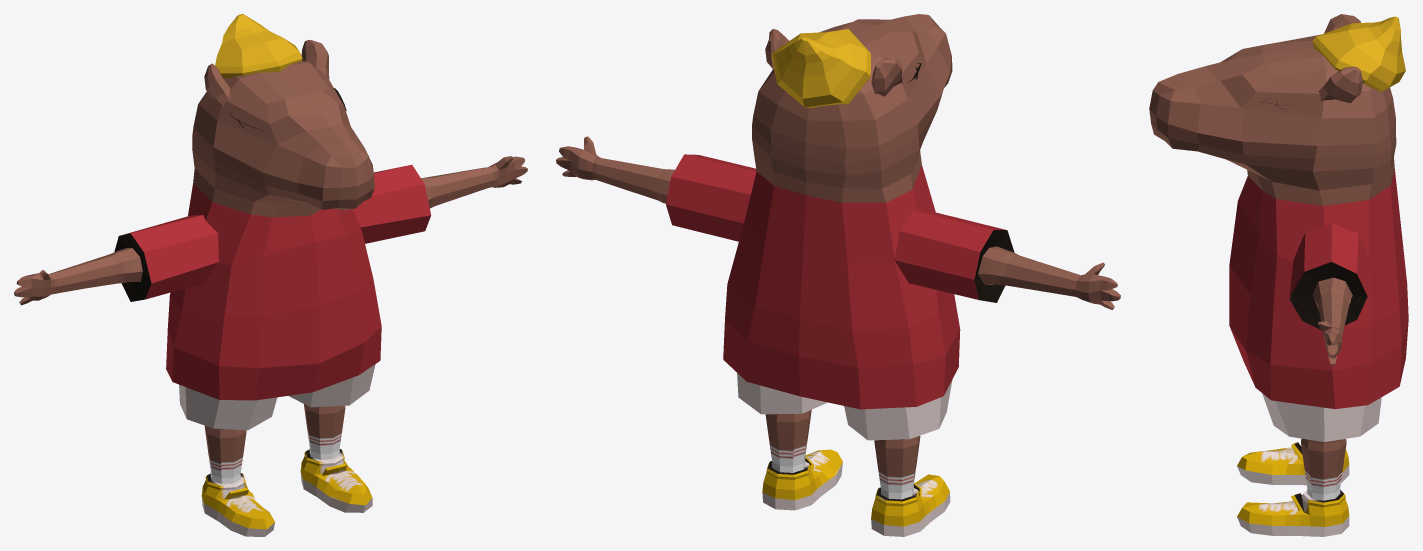
The model's file is capybara.fbx.
The picture shows the model from 3 angles, left to right: view 1: azimuth 30°, elevation 25°; view 2: azimuth 150°, elevation 25°; view 3: azimuth 270°, elevation 25°; orthographic projection. The views are drawn at different scales.
Visible parts, largest first — view 1: capybara; view 2: capybara; view 3: capybara.
Boxes of the visible parts, x1=… form: capybara: x1=14, y1=14, x2=527, y2=536; capybara: x1=556, y1=14, x2=1120, y2=536; capybara: x1=1149, y1=14, x2=1408, y2=536.
Bounding box in the file's own units: 4.13 × 1.71 × 3.52.
